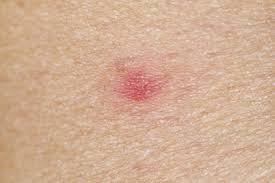Tick: (109, 57, 167, 117)
